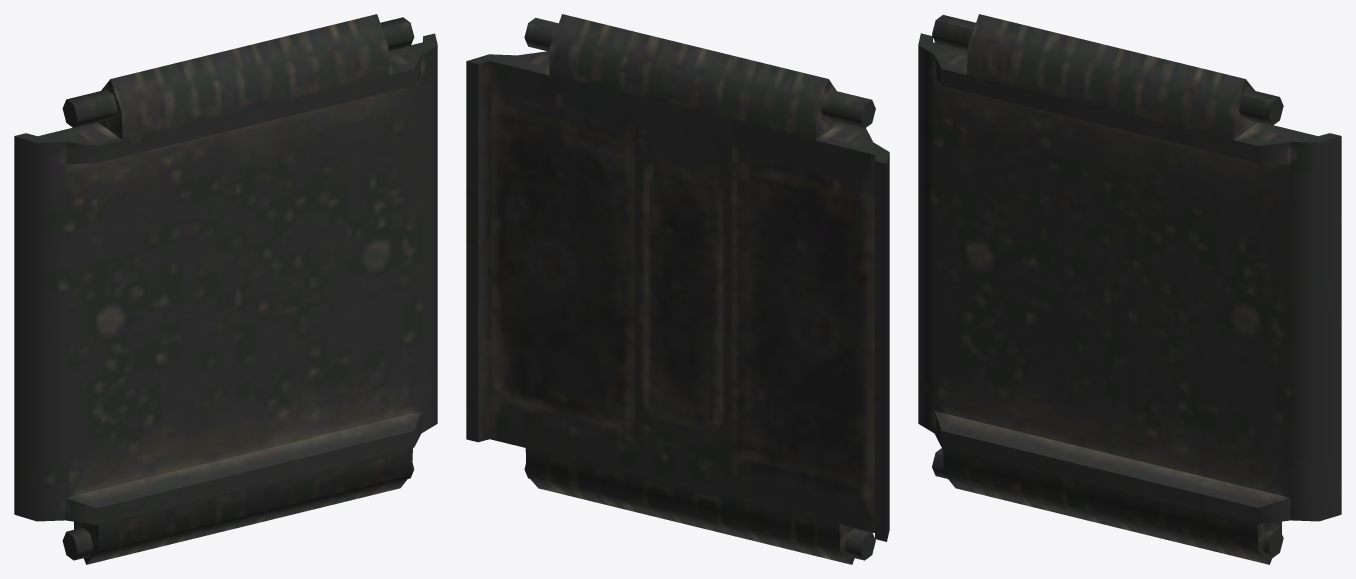
3 views of the same model, side by side, from view 1: azimuth 30°, elevation 25°; view 2: azimuth 150°, elevation 25°; view 3: azimuth 330°, elevation 25° (orthographic).
Visible parts, largest first — view 1: set_0_group_0; view 2: set_0_group_0; view 3: set_0_group_0.
Part boxes in pixels (x1,y1,x2,y2): set_0_group_0: (14,14,437,564); set_0_group_0: (466,14,889,564); set_0_group_0: (918,14,1341,564).
Size of the model in its own units: 0.2599 by 0.2834 by 0.0335.
1 material, 1 textured.
